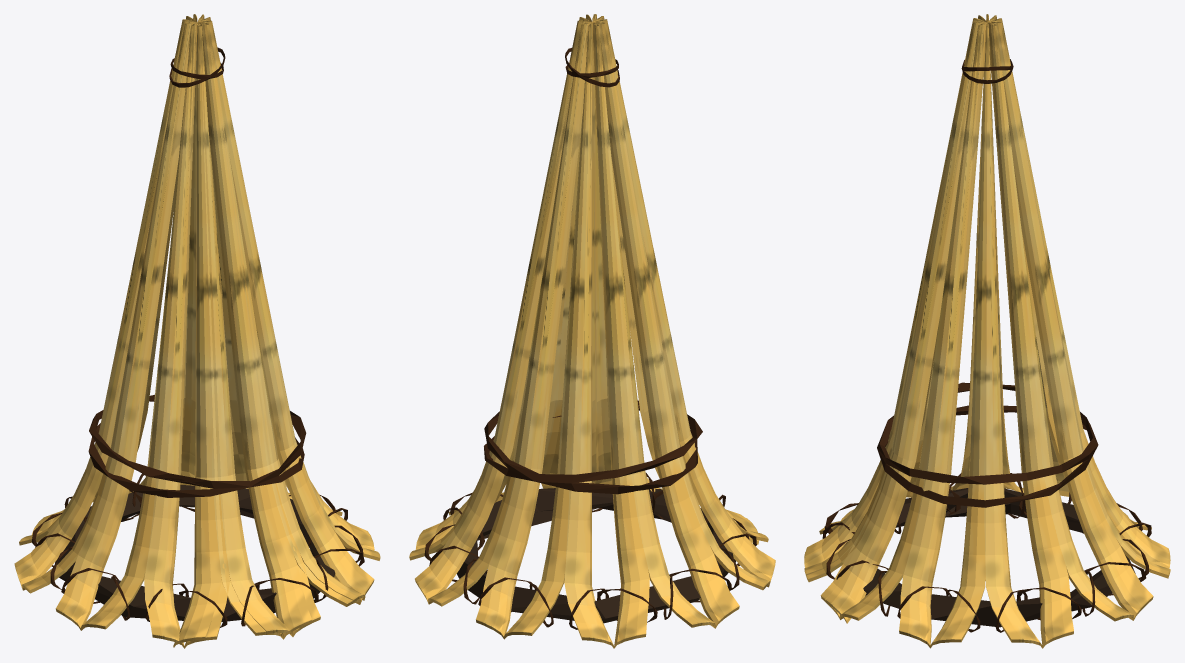
Rendered from waiakar.glb.
3 views of the same model, side by side, from view 1: azimuth 30°, elevation 25°; view 2: azimuth 150°, elevation 25°; view 3: azimuth 270°, elevation 25° (orthographic).
Parts seen in each view (by area): view 1: body, cuerda, Torus, cuerda.001; view 2: body, Torus, cuerda, cuerda.001; view 3: body, cuerda, Torus.
Part boxes in pixels (left/top/right/bottom): body: left=14, top=14, right=380, bottom=648; cuerda: left=88, top=394, right=306, bottom=497; Torus: left=55, top=485, right=335, bottom=621; cuerda.001: left=169, top=47, right=225, bottom=87; body: left=409, top=14, right=775, bottom=648; Torus: left=457, top=488, right=735, bottom=623; cuerda: left=484, top=400, right=702, bottom=494; cuerda.001: left=565, top=48, right=619, bottom=87; body: left=804, top=14, right=1170, bottom=648; cuerda: left=877, top=382, right=1098, bottom=507; Torus: left=845, top=488, right=1135, bottom=627.
Size of the model in its own units: 2.96 by 4.97 by 2.97.
3 materials, 1 textured.
